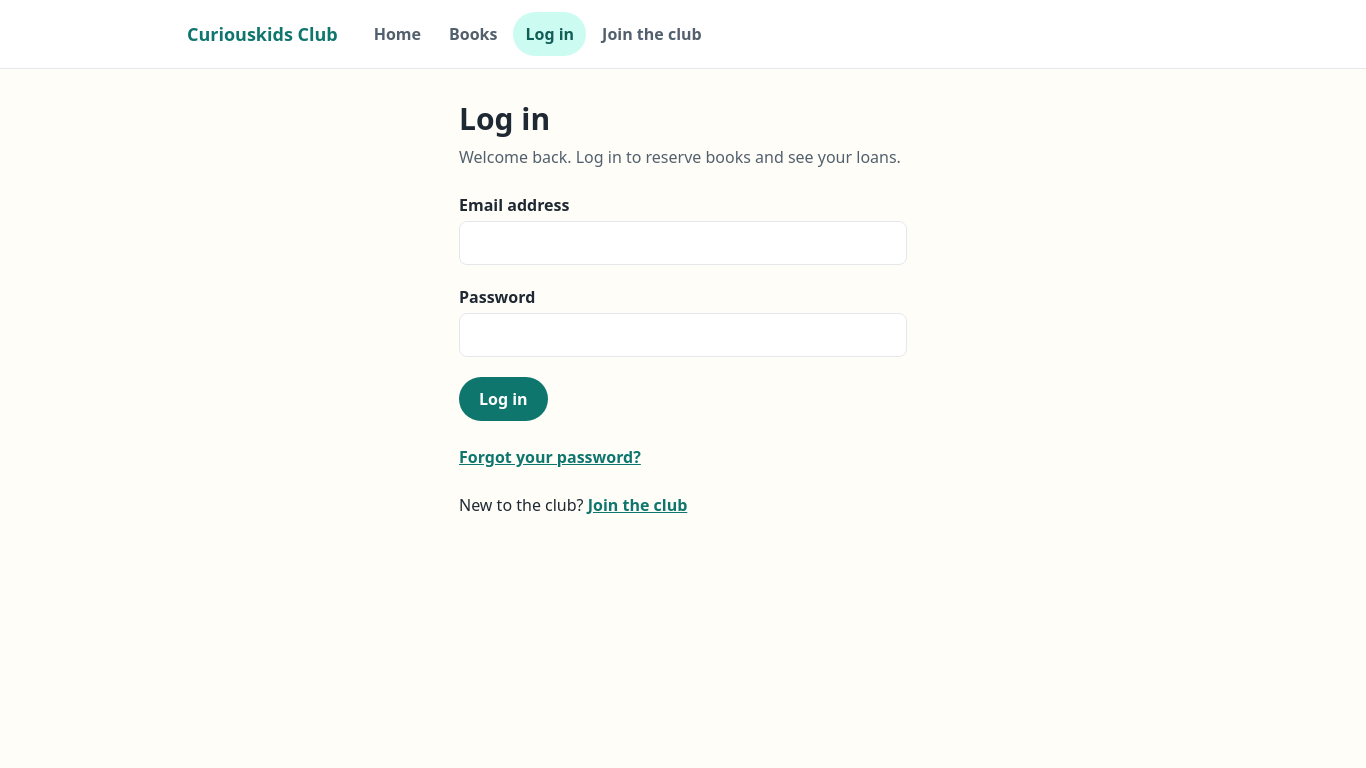
Test: Login page › FR-ID-03: shows one generic message when the email or password is wrong
Type "sam@example.com" into the field labelled "Email address" at (683, 243), box [459,221,907,265]
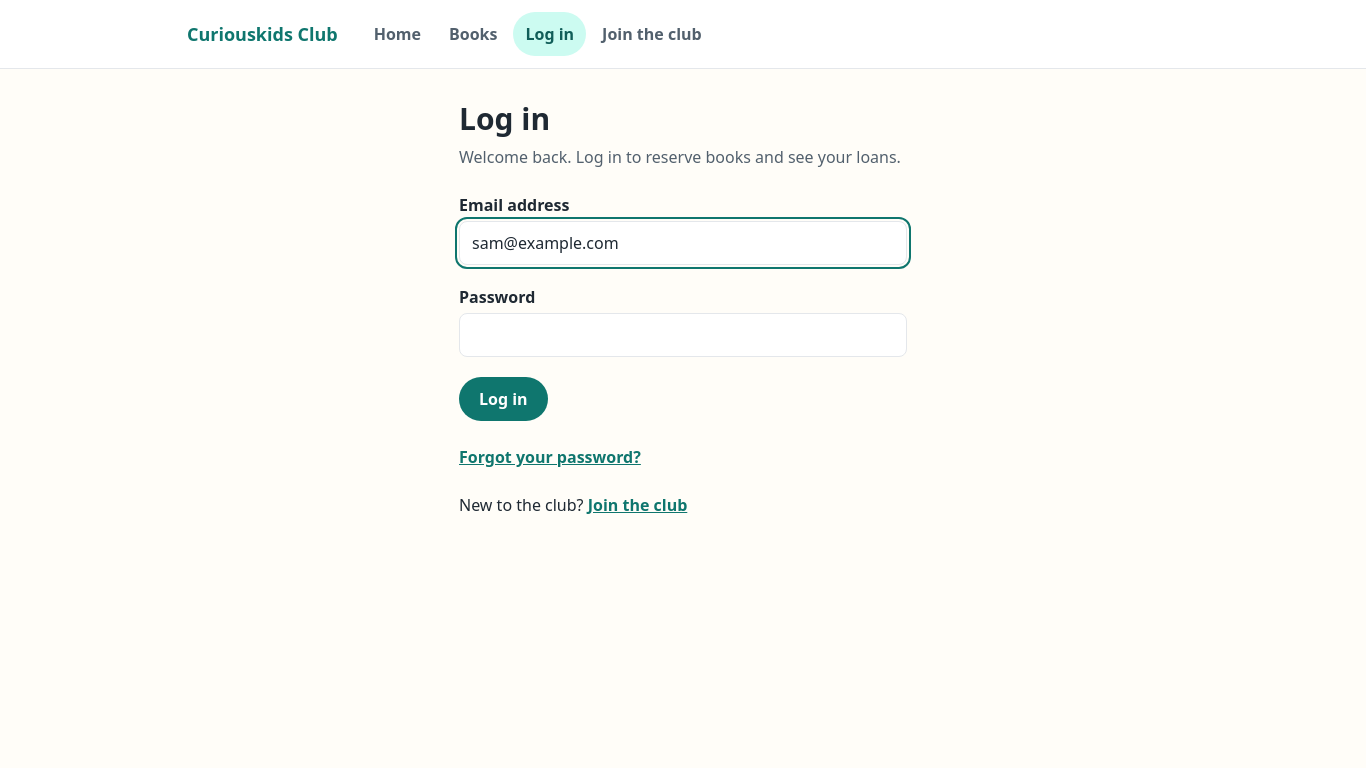
Type "wrong password" into the password field labelled "Password" at (683, 335), box [459,313,907,357]
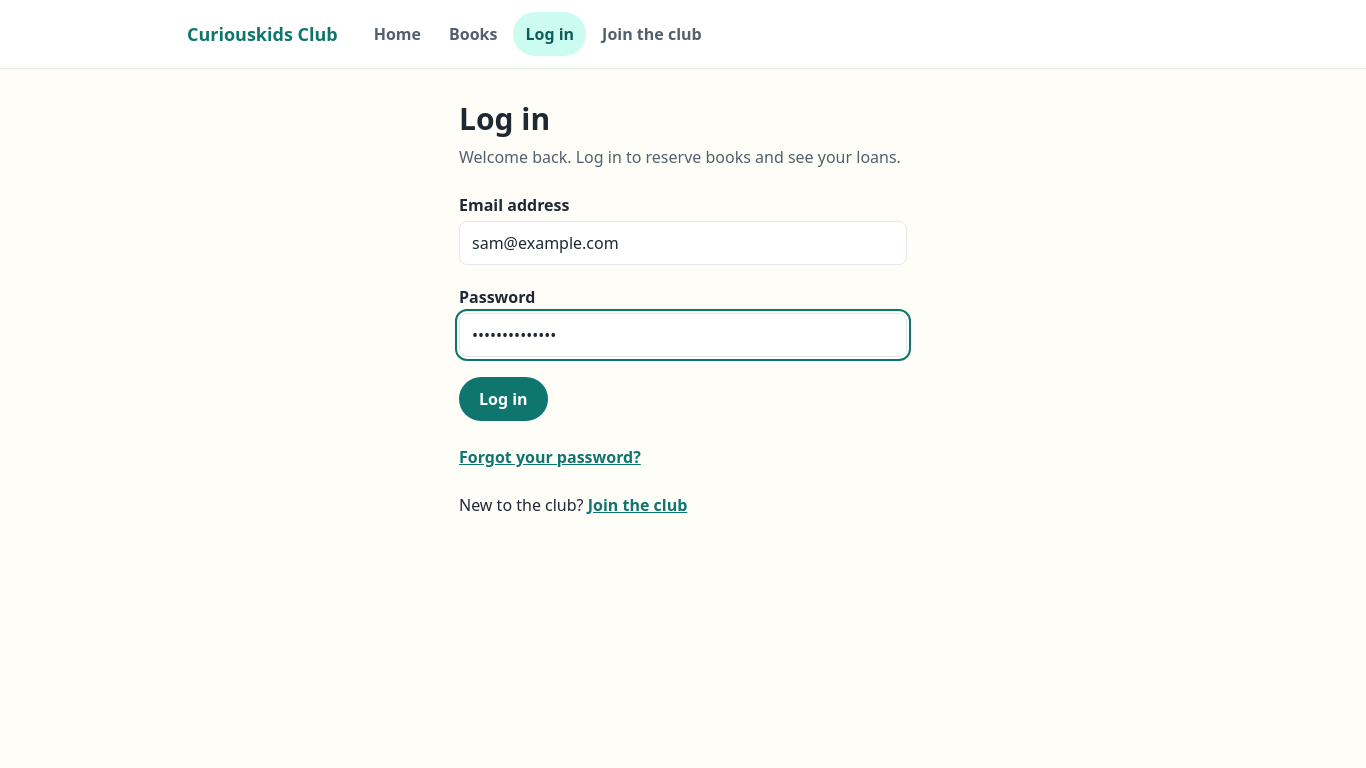
Click the button "Log in" at (503, 399), box [459,377,548,421]
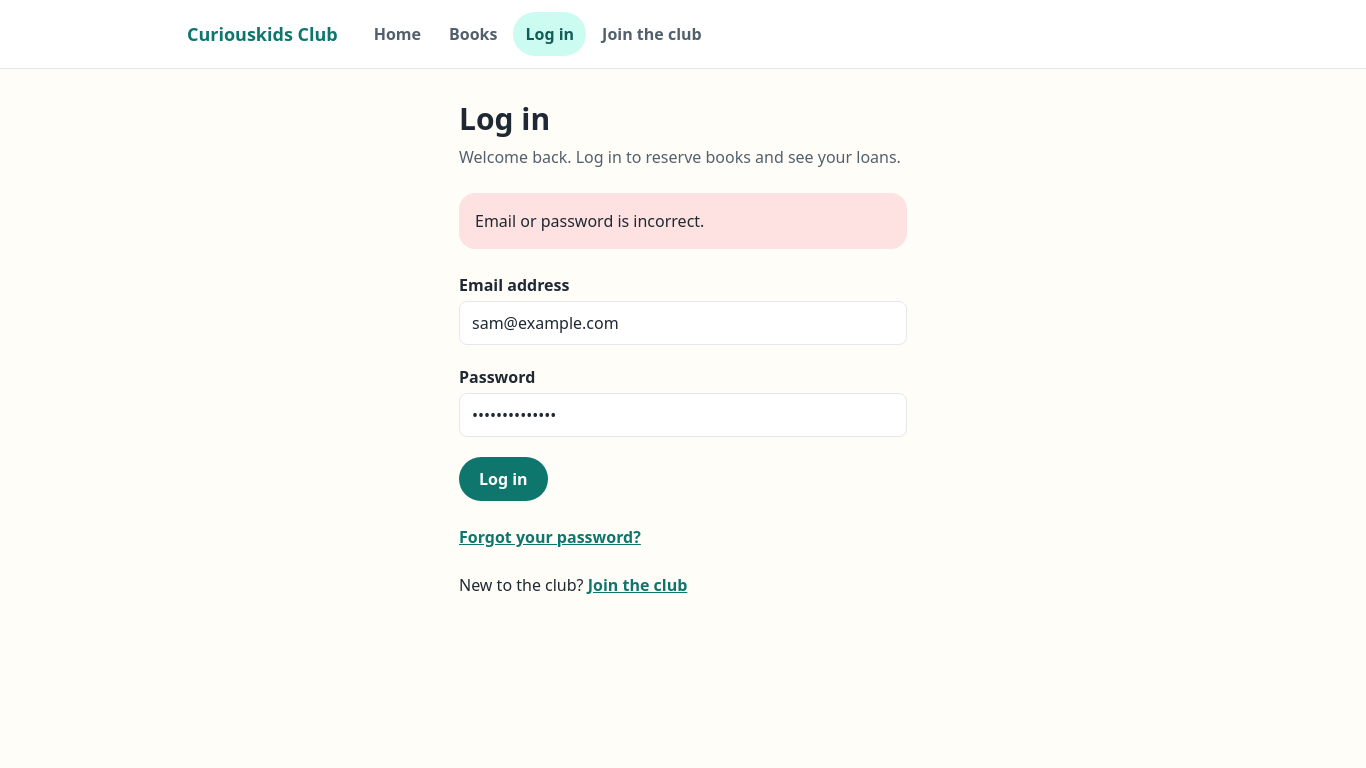
Expected: the message reads "Email or password is incorrect.", [475,210,704,232]
